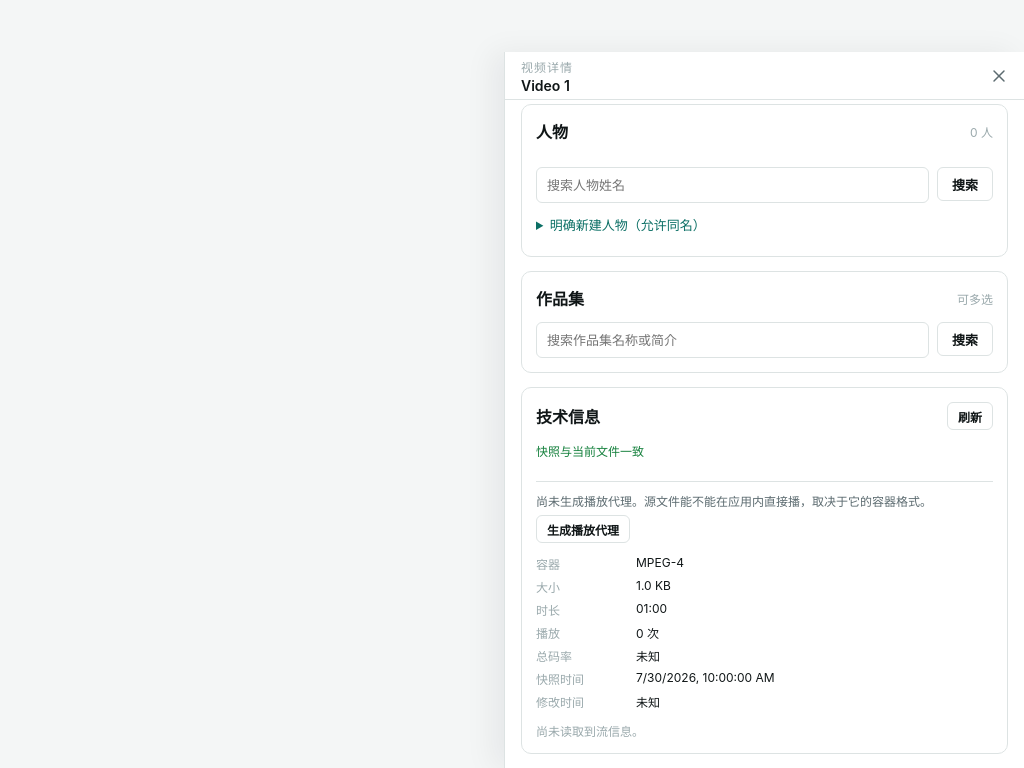
Test case: PreviewDrawer 作品集术语表（P-010） › 生成代理之后回读元数据并请求刷新根条目的预览会话
(page scrolled)
Step 1. Click the button with test id "preview-proxy-create" → (583, 529), box [536, 515, 630, 543]
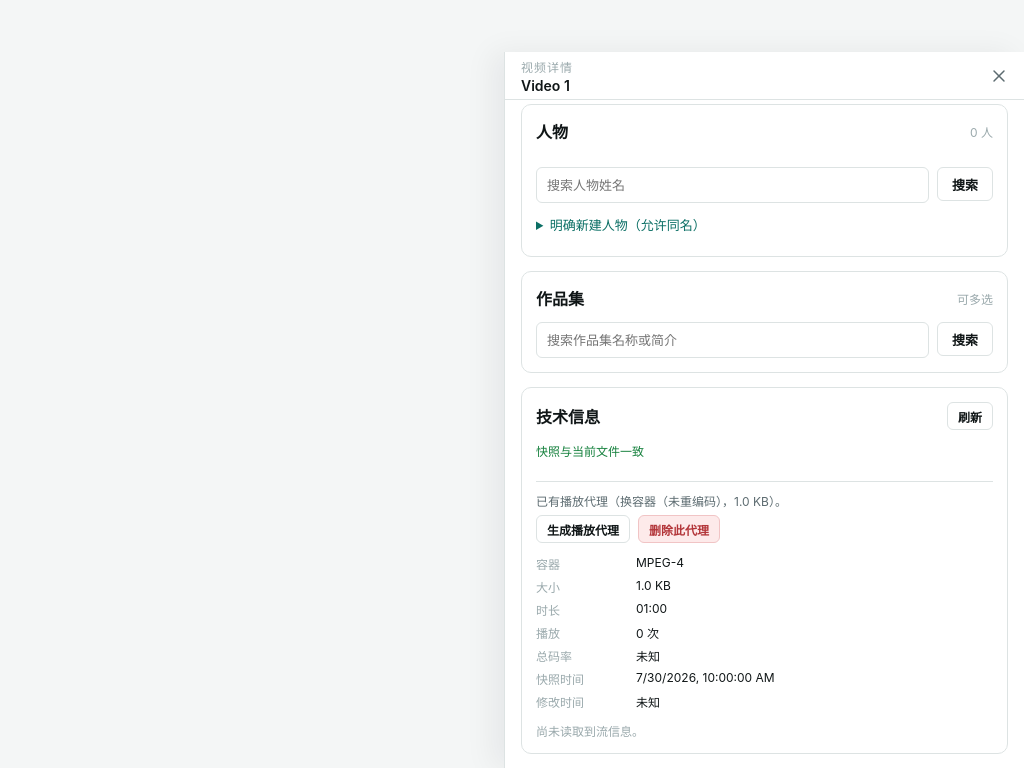
Result: the text with test id "preview-proxy-status" shows "已有播放代理" at [536, 494, 787, 509]
